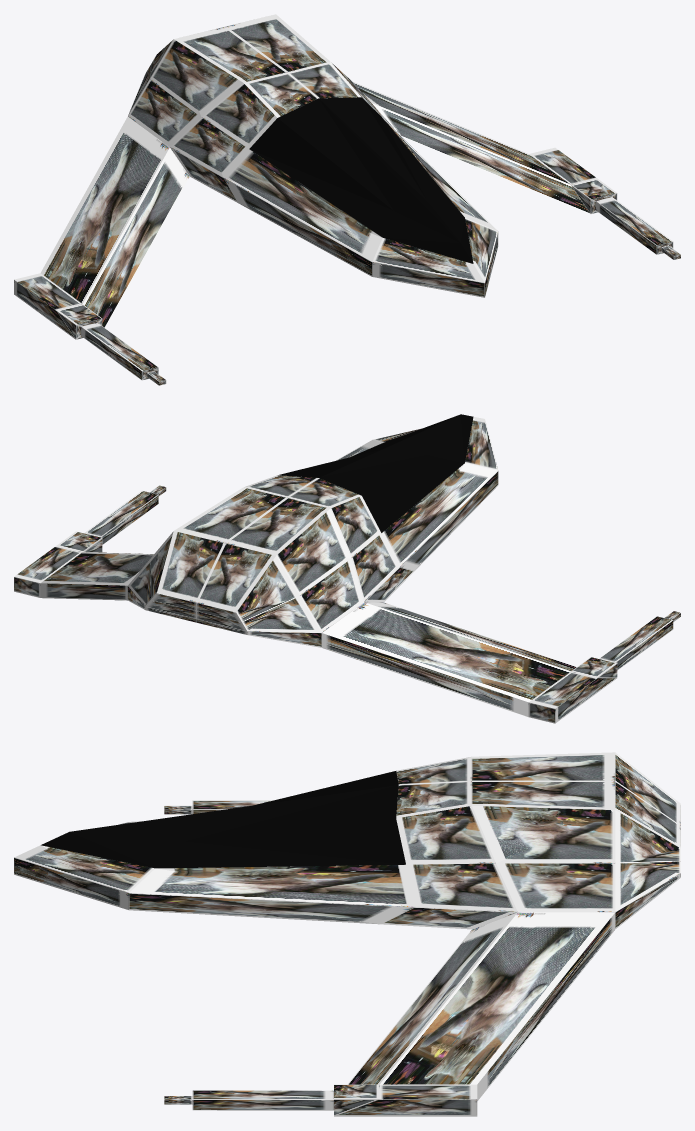
The model's file is SpaceShip.dae.
The picture shows the model from 3 angles, top to bottom: view 1: azimuth 30°, elevation 25°; view 2: azimuth 150°, elevation 25°; view 3: azimuth 270°, elevation 25°; orthographic projection. The views are drawn at different scales.
Parts seen in each view (by area): view 1: Cube; view 2: Cube; view 3: Cube.
Part boxes in pixels (x1,y1,x2,y2): Cube: (14, 14, 680, 385); Cube: (14, 414, 680, 723); Cube: (14, 752, 680, 1116).
Size of the model in its own units: 6.91 by 6.38 by 1.93.
Materials: 2 (1 with a texture image).
